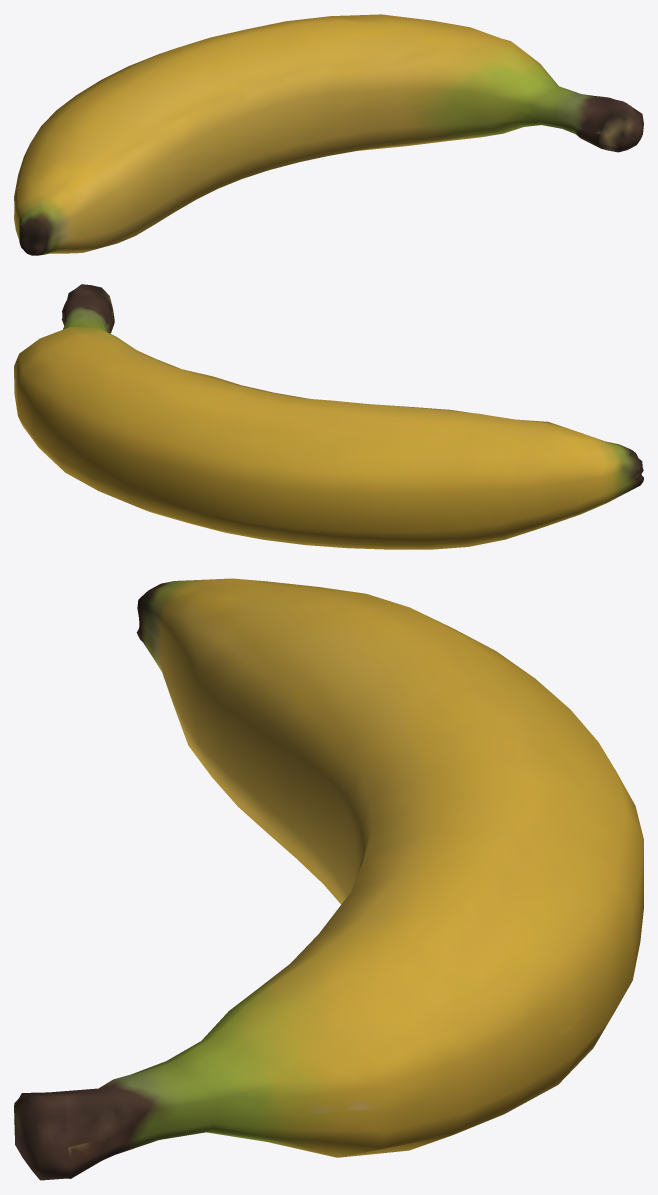
Rendered from Banana.fbx.
The picture shows the model from 3 angles, top to bottom: view 1: azimuth 30°, elevation 25°; view 2: azimuth 150°, elevation 25°; view 3: azimuth 270°, elevation 25°; orthographic projection. The views are drawn at different scales.
Visible parts, largest first — view 1: Banana_LOD0; view 2: Banana_LOD0; view 3: Banana_LOD0.
Boxes of the visible parts, x1,y1,x2,y2 form: Banana_LOD0: (14, 14, 643, 255); Banana_LOD0: (14, 284, 643, 549); Banana_LOD0: (14, 578, 643, 1180).
Size of what is drawn, in the model's own units: 0.1684 by 0.0345 by 0.0829.
